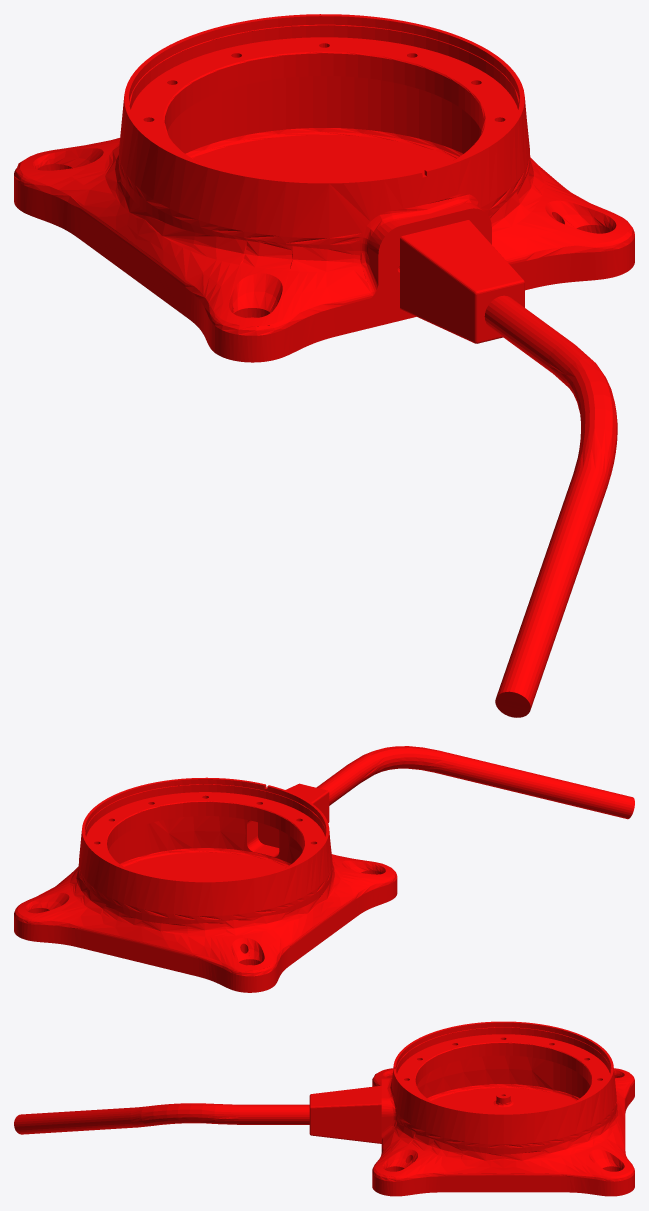
3 renders of one model, top to bottom at view 1: azimuth 30°, elevation 25°; view 2: azimuth 150°, elevation 25°; view 3: azimuth 270°, elevation 25°, orthographic. The views are drawn at different scales.
Parts seen in each view (by area): view 1: MF0617_0_0; view 2: MF0617_0_0; view 3: MF0617_0_0.
Part boxes in pixels (x1,y1,x2,y2): MF0617_0_0: (14,14,634,717); MF0617_0_0: (14,746,634,992); MF0617_0_0: (14,1021,634,1196).
Size of the model in its own units: 206 by 431 by 101.
